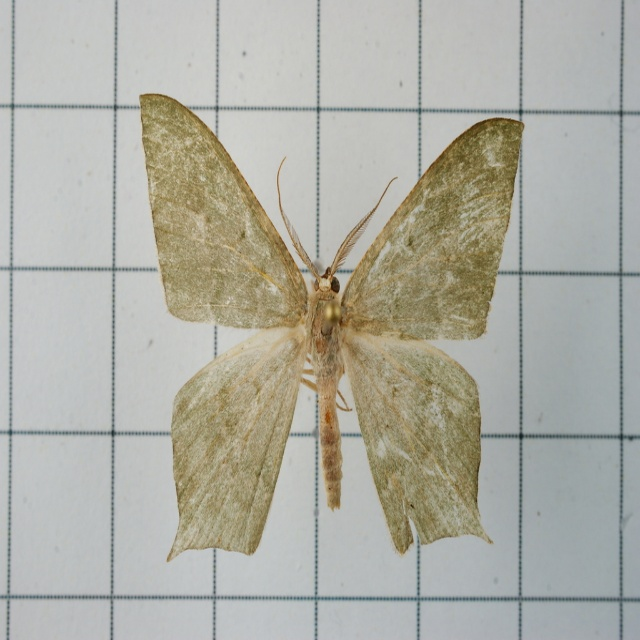Butterfly: (142, 111, 515, 573)
